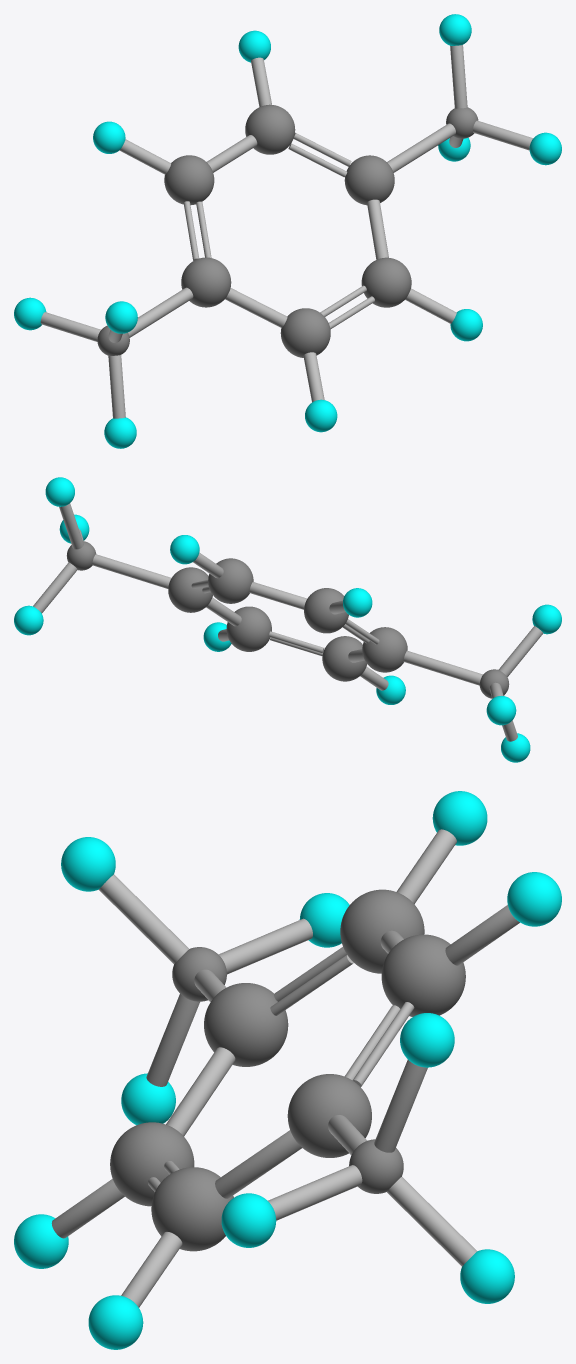
The model's file is p-xylene.glb.
3 renders of one model, top to bottom at view 1: azimuth 30°, elevation 25°; view 2: azimuth 150°, elevation 25°; view 3: azimuth 270°, elevation 25°, orthographic. The views are drawn at different scales.
Visible parts, largest first — view 1: CMAtom_0, CMAtom_5, CMAtom_3, CMAtom_4, CMAtom_2, CMAtom_1, CMBond_10_Segment_0, CMBond_21_Segment_0, CMBond_6_Segment_0, CMBond_19_Segment_0, CMBond_16_Segment_0, CMAtom_13 (+18 smaller); view 2: CMAtom_2, CMAtom_5, CMAtom_1, CMAtom_3, CMAtom_4, CMAtom_0, CMBond_10_Segment_0, CMBond_21_Segment_0, CMBond_1_Segment_0, CMAtom_12, CMAtom_16, CMAtom_17 (+15 smaller); view 3: CMAtom_2, CMAtom_1, CMAtom_5, CMAtom_3, CMAtom_4, CMAtom_0, CMAtom_7, CMAtom_14, CMAtom_16, CMAtom_6, CMBond_17_Segment_0, CMBond_18_Segment_0 (+23 smaller).
Part boxes in pixels (x1,y1,x2,y2): CMAtom_0: (164, 155, 214, 204); CMAtom_5: (361, 257, 411, 307); CMAtom_3: (344, 155, 394, 205); CMAtom_4: (280, 308, 330, 357); CMAtom_2: (181, 257, 231, 307); CMAtom_1: (245, 104, 295, 154); CMBond_10_Segment_0: (387, 123, 455, 172); CMBond_21_Segment_0: (128, 287, 193, 337); CMBond_6_Segment_0: (225, 288, 287, 327); CMBond_19_Segment_0: (450, 45, 467, 108); CMBond_16_Segment_0: (108, 355, 125, 418); CMAtom_13: (105, 301, 137, 333); CMAtom_2: (362, 627, 407, 672); CMAtom_5: (226, 606, 271, 651); CMAtom_1: (208, 558, 253, 603); CMAtom_3: (168, 567, 212, 612); CMAtom_4: (322, 636, 366, 681); CMAtom_0: (304, 588, 348, 633); CMBond_10_Segment_0: (92, 554, 171, 588); CMBond_21_Segment_0: (403, 650, 482, 685); CMBond_1_Segment_0: (249, 582, 306, 609); CMAtom_12: (486, 696, 516, 725); CMAtom_16: (45, 477, 74, 506); CMAtom_17: (343, 588, 372, 617); CMAtom_2: (204, 983, 288, 1066); CMAtom_1: (381, 934, 465, 1016); CMAtom_5: (151, 1167, 233, 1251); CMAtom_3: (287, 1074, 371, 1157); CMAtom_4: (110, 1122, 194, 1206); CMAtom_0: (340, 889, 424, 973); CMAtom_7: (88, 1295, 143, 1349); CMAtom_14: (221, 1193, 276, 1247); CMAtom_16: (400, 1013, 454, 1067); CMAtom_6: (507, 872, 561, 926); CMBond_17_Segment_0: (98, 874, 188, 963); CMBond_18_Segment_0: (387, 1177, 477, 1266).
Size of the model in its own units: 7.4 by 3.69 by 4.01.
